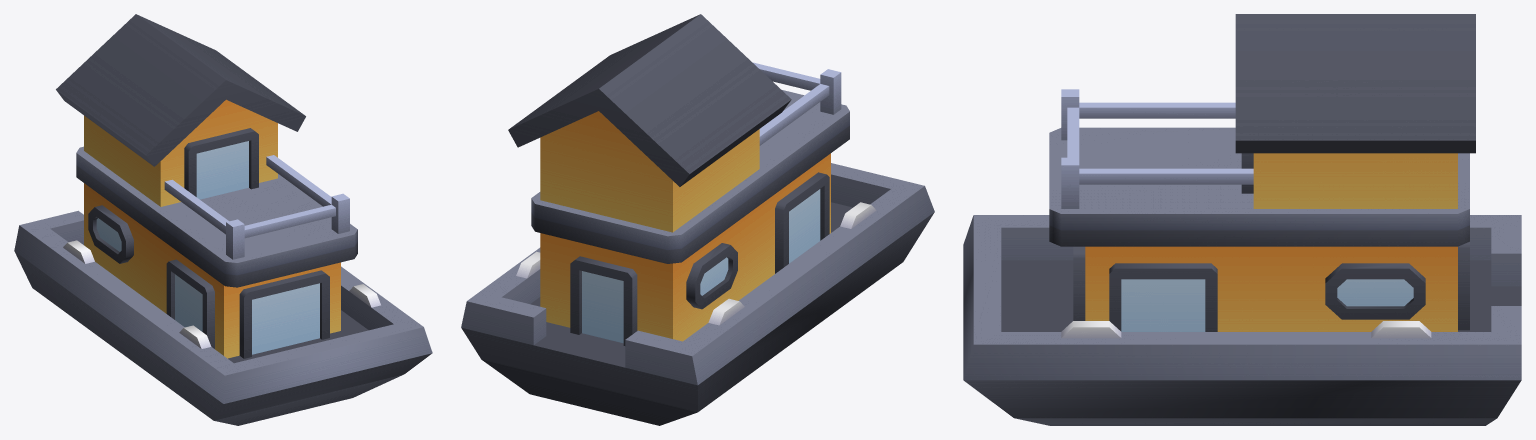
Rendered from boat-house-d.glb.
3 renders of one model, left to right at view 1: azimuth 30°, elevation 25°; view 2: azimuth 150°, elevation 25°; view 3: azimuth 270°, elevation 25°, orthographic. The views are drawn at different scales.
Visible parts, largest first — view 1: boat-house-d; view 2: boat-house-d; view 3: boat-house-d.
Part boxes in pixels (box(x1,y1,x2,y2)): boat-house-d: box(14, 14, 432, 425); boat-house-d: box(461, 14, 934, 425); boat-house-d: box(963, 14, 1521, 425).
Size of the model in its own units: 9.1 by 11.7 by 15.79.
1 material, 1 textured.
